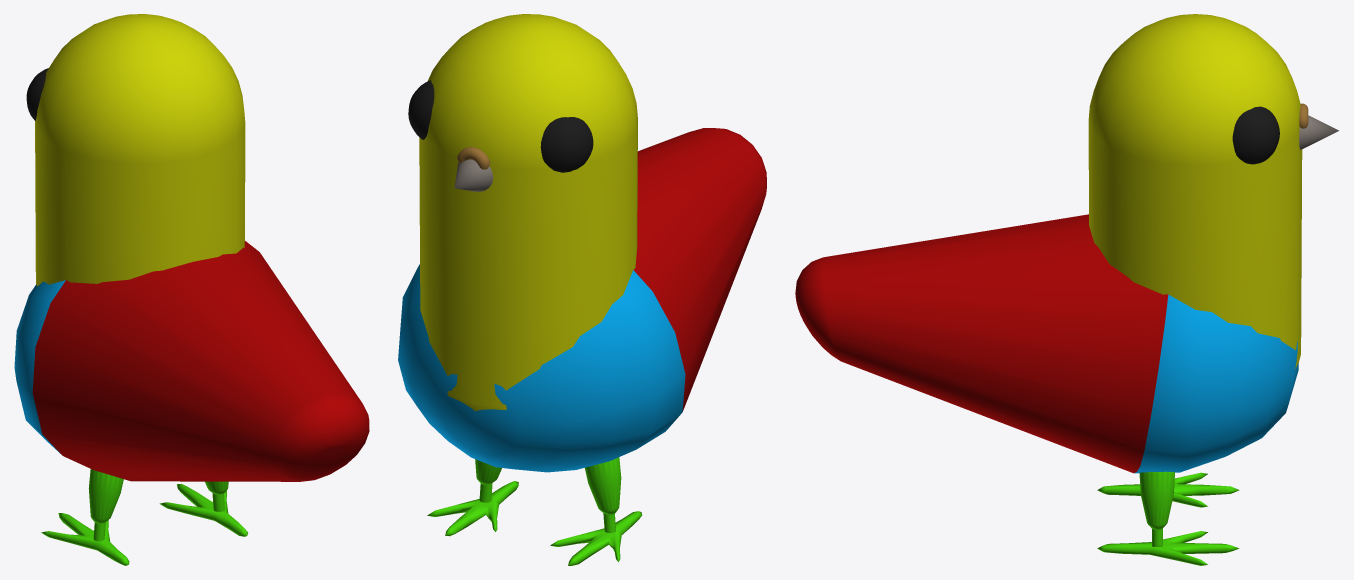
The model's file is Bird.fbx.
3 renders of one model, left to right at view 1: azimuth 30°, elevation 25°; view 2: azimuth 150°, elevation 25°; view 3: azimuth 270°, elevation 25°, orthographic. The views are drawn at different scales.
Parts seen in each view (by area): view 1: Bird_Prefab; view 2: Bird_Prefab; view 3: Bird_Prefab.
Boxes of the visible parts, x1,y1,x2,y2 form: Bird_Prefab: (14,14,369,565); Bird_Prefab: (398,14,766,565); Bird_Prefab: (795,14,1338,565).
Size of the model in its own units: 0.00445 by 0.00814 by 0.00803.
